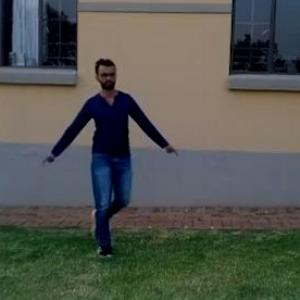land: (36, 56, 168, 239)
